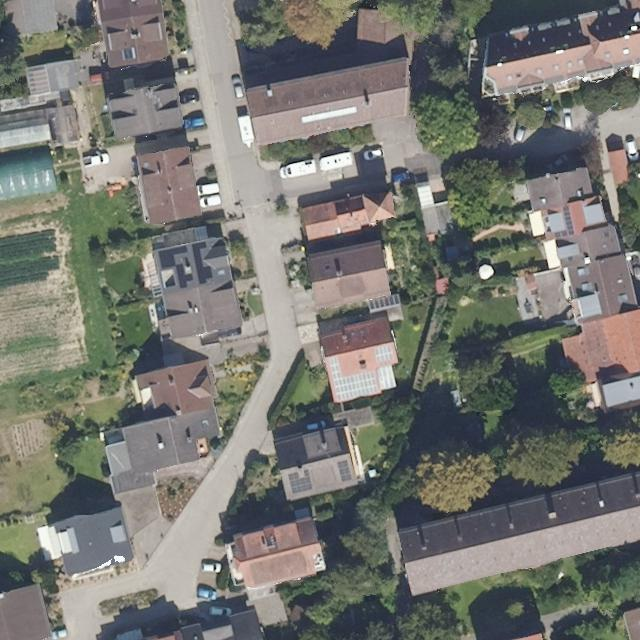PV: (327, 356, 379, 402), (191, 240, 213, 285), (157, 244, 189, 270), (286, 468, 314, 495), (175, 263, 193, 290), (562, 205, 575, 236), (336, 459, 352, 483), (374, 345, 394, 363)
